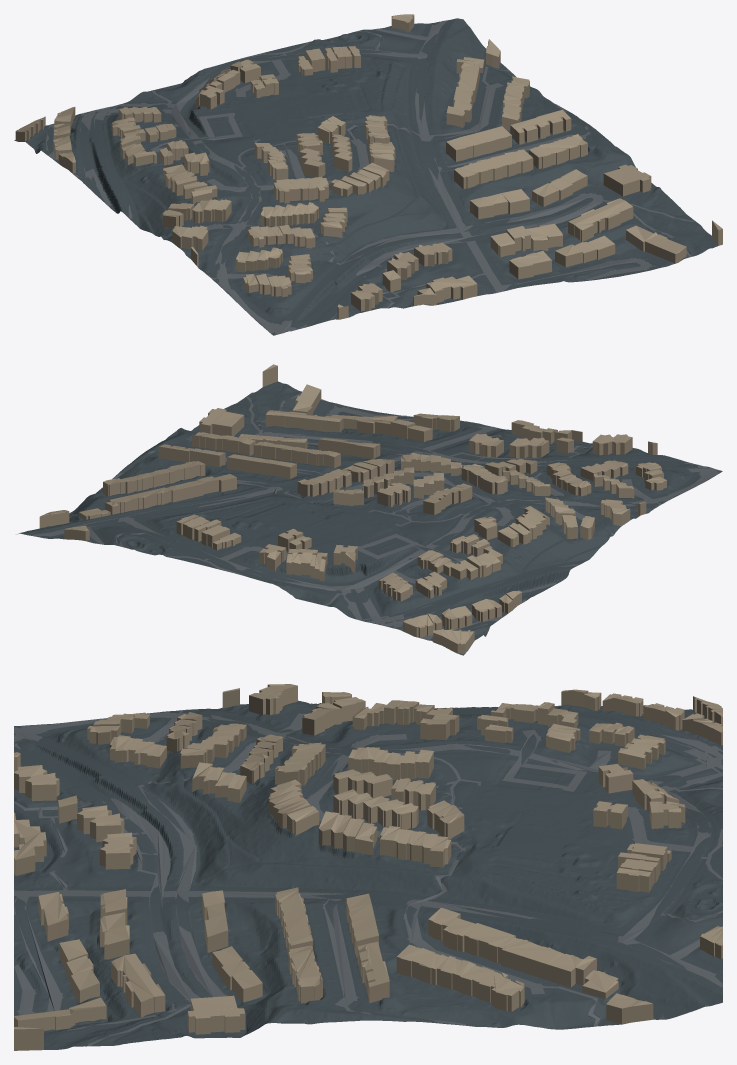
The model's file is epsg26910-1443-10876.lod0.glb.
3 views of the same model, one above another, from view 1: azimuth 30°, elevation 25°; view 2: azimuth 150°, elevation 25°; view 3: azimuth 270°, elevation 25° (orthographic). The views are drawn at different scales.
Visible parts, largest first — view 1: epsg26910-1443-10876-lod0; view 2: epsg26910-1443-10876-lod0; view 3: epsg26910-1443-10876-lod0.
Boxes of the visible parts, box(x1,y1,x2,y2) form: epsg26910-1443-10876-lod0: box(14, 14, 722, 335); epsg26910-1443-10876-lod0: box(17, 364, 722, 655); epsg26910-1443-10876-lod0: box(14, 684, 722, 1050).
Bounding box in the file's own units: 384 × 61.08 × 384.
